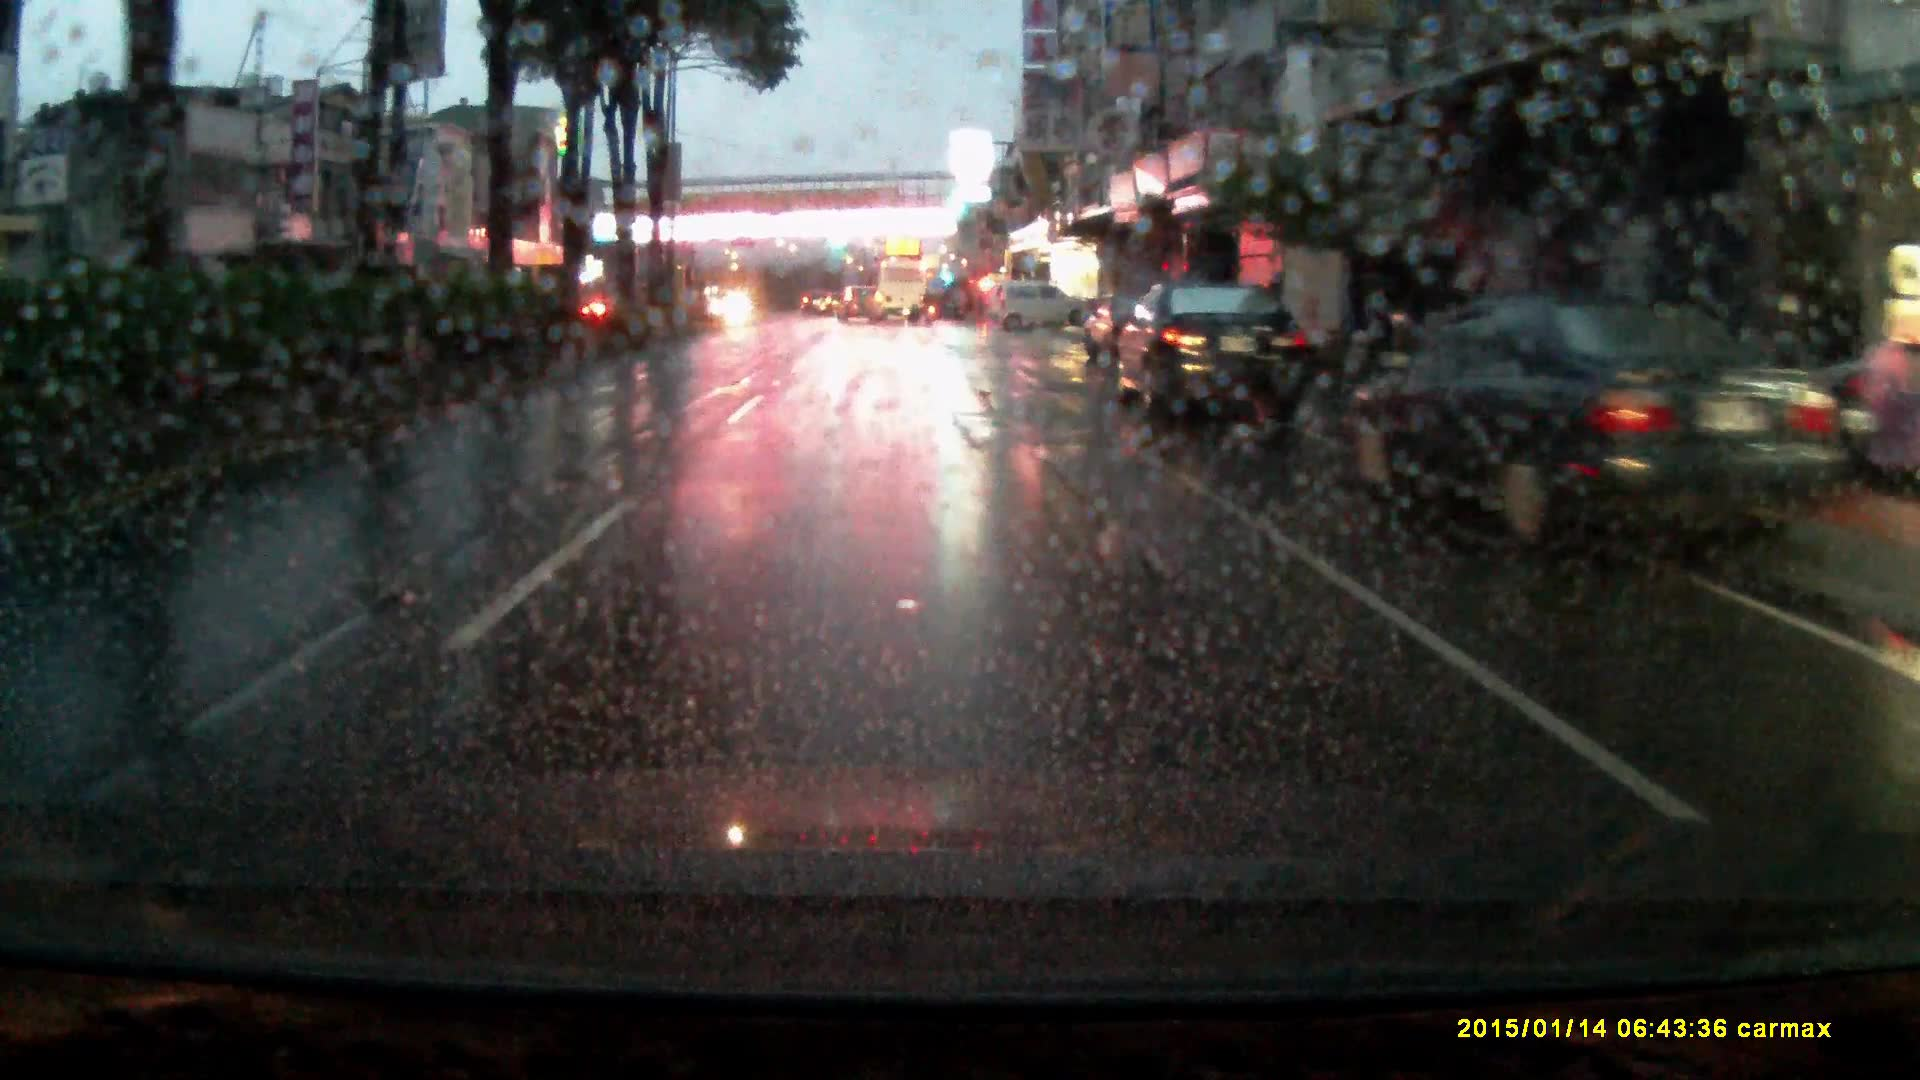vehicle: (1375, 305, 1815, 601), (1114, 285, 1307, 443), (1083, 295, 1147, 371), (998, 285, 1087, 334), (860, 262, 928, 324), (836, 294, 885, 336), (800, 298, 835, 328)
